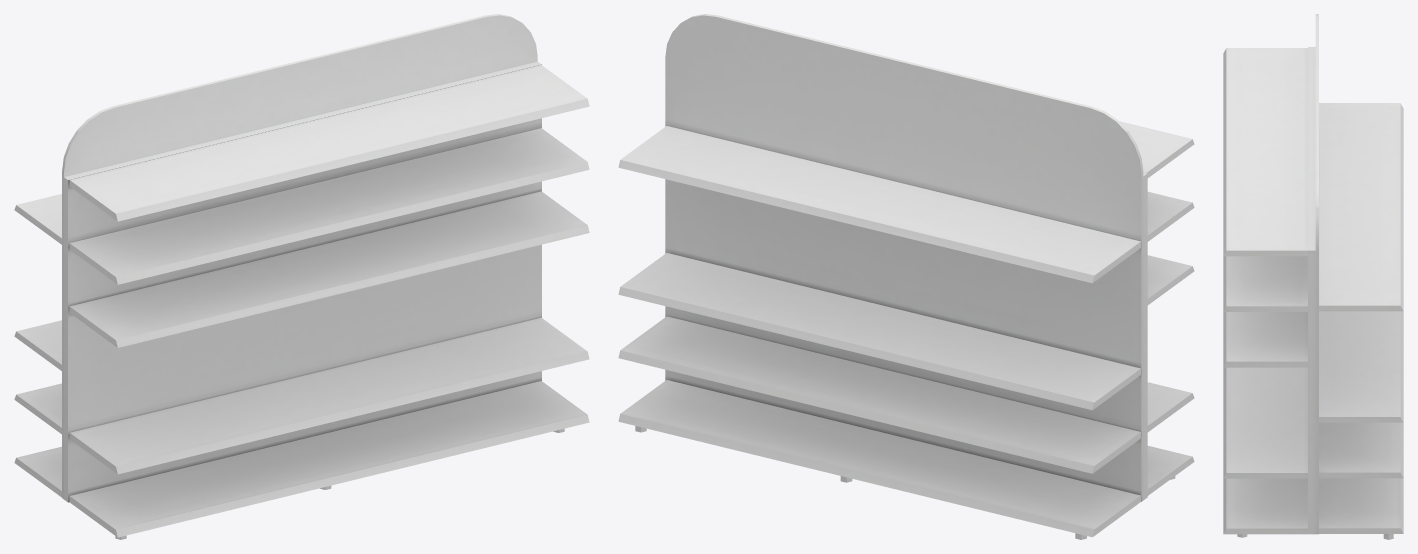
Rendered from GroceriesShelf_003.glb.
3 renders of one model, left to right at view 1: azimuth 30°, elevation 25°; view 2: azimuth 150°, elevation 25°; view 3: azimuth 270°, elevation 25°, orthographic. The views are drawn at different scales.
Parts seen in each view (by area): view 1: GroceriesShelves.003_baked; view 2: GroceriesShelves.003_baked; view 3: GroceriesShelves.003_baked.
Part boxes in pixels (box(x1,y1,x2,y2)): GroceriesShelves.003_baked: box(14, 14, 589, 539); GroceriesShelves.003_baked: box(618, 14, 1194, 539); GroceriesShelves.003_baked: box(1223, 14, 1403, 539).
Size of the model in its own units: 3.01 by 2.37 by 1.13.
1 material, 1 textured.
